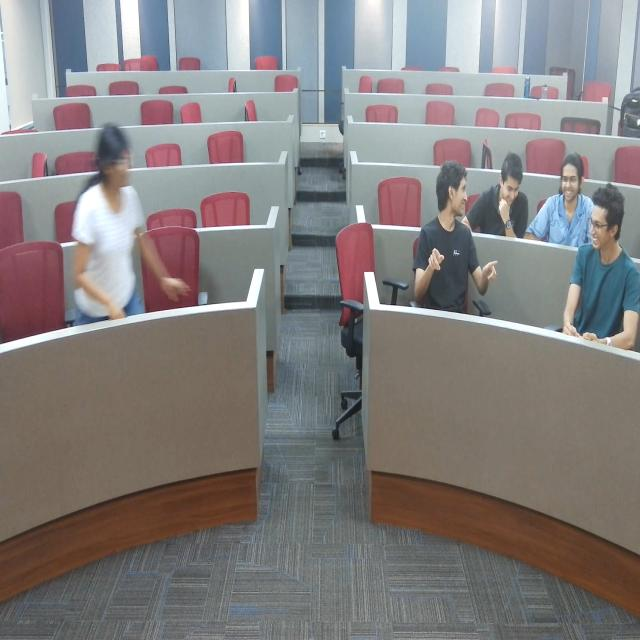cheating: (406, 165, 503, 331), (563, 198, 640, 365), (467, 147, 533, 242), (530, 159, 594, 254)
